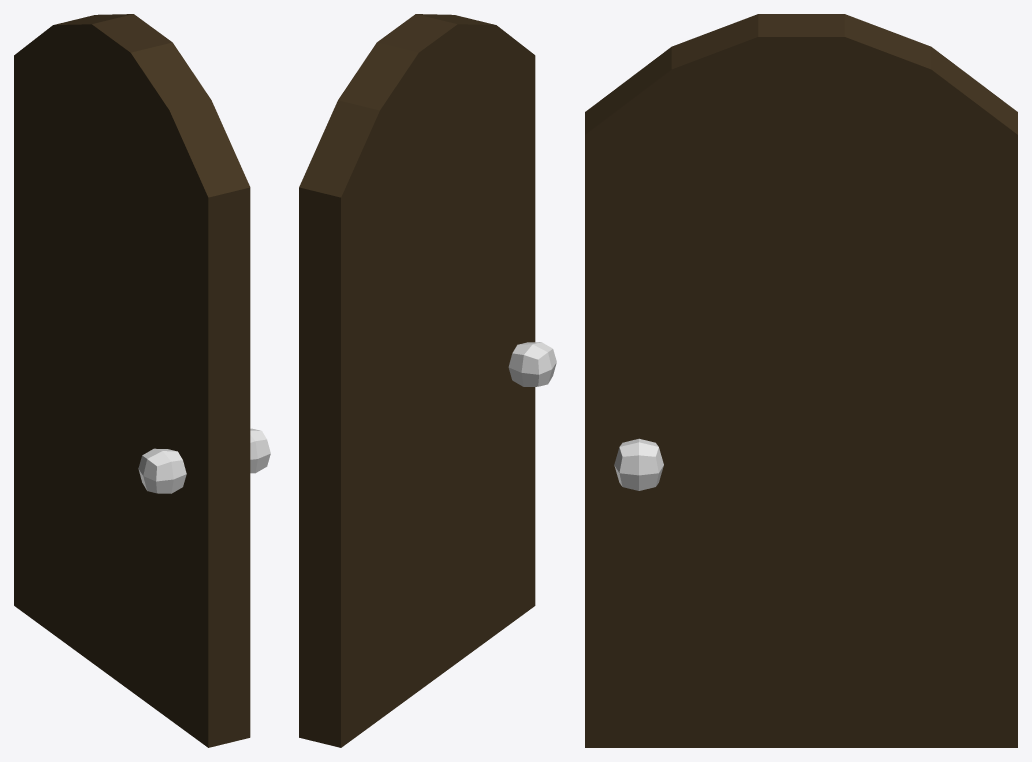
File: Door.fbx
3 renders of one model, left to right at view 1: azimuth 30°, elevation 25°; view 2: azimuth 150°, elevation 25°; view 3: azimuth 270°, elevation 25°, orthographic. The views are drawn at different scales.
Visible parts, largest first — view 1: Door; view 2: Door; view 3: Door.
Boxes of the visible parts, x1=… form: Door: x1=14, y1=14, x2=270, y2=747; Door: x1=299, y1=14, x2=556, y2=747; Door: x1=585, y1=14, x2=1017, y2=747.
Size of the model in its own units: 87.64 by 435 by 240.
